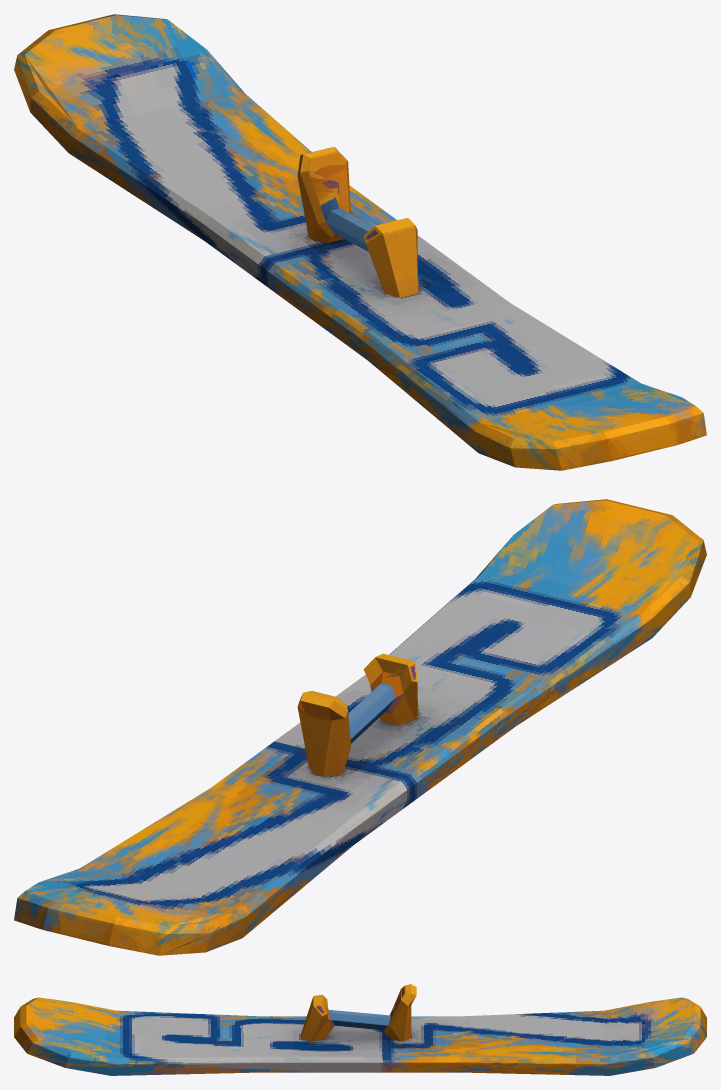
File: item_snowboard_2.glb
3 views of the same model, one above another, from view 1: azimuth 30°, elevation 25°; view 2: azimuth 150°, elevation 25°; view 3: azimuth 270°, elevation 25° (orthographic). The views are drawn at different scales.
Visible parts, largest first — view 1: Snowboard; view 2: Snowboard; view 3: Snowboard.
Part boxes in pixels (bbox=[...]): Snowboard: bbox=[14, 14, 706, 470]; Snowboard: bbox=[14, 499, 706, 955]; Snowboard: bbox=[14, 984, 706, 1075].
Bounding box in the file's own units: 0.3666 × 0.198 × 2.01.
1 material, 1 textured.
